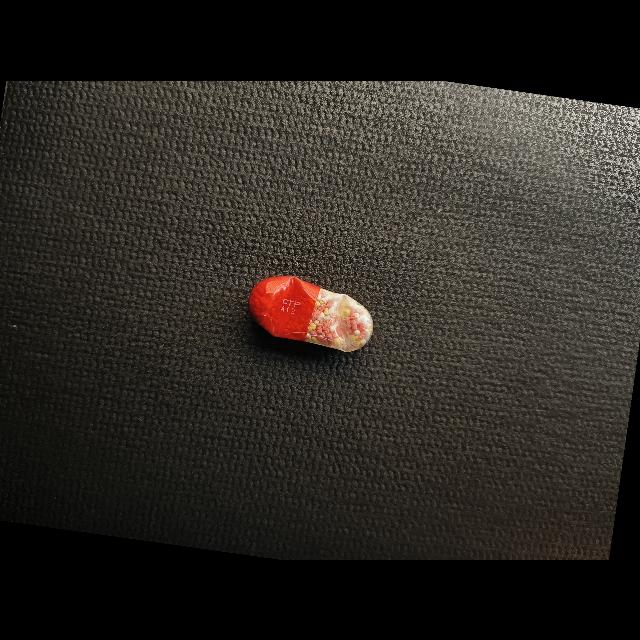Defective Capsule: (249, 275, 374, 352)
